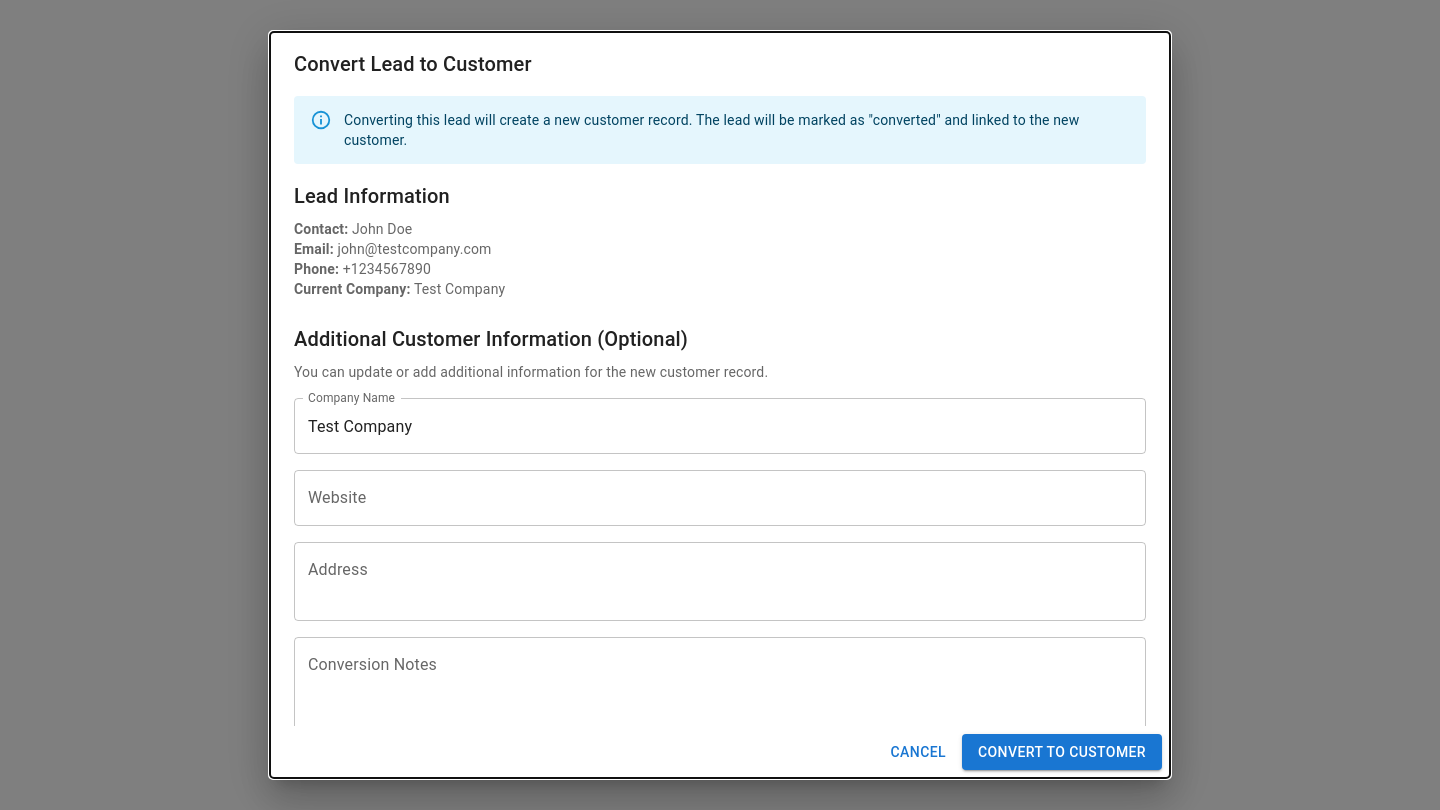
Test case: ConvertLeadDialog website › rejects javascript:alert(1)
Type "javascript:alert(1)" into the field labelled "Website" at (720, 498), box [294,470,1146,526]
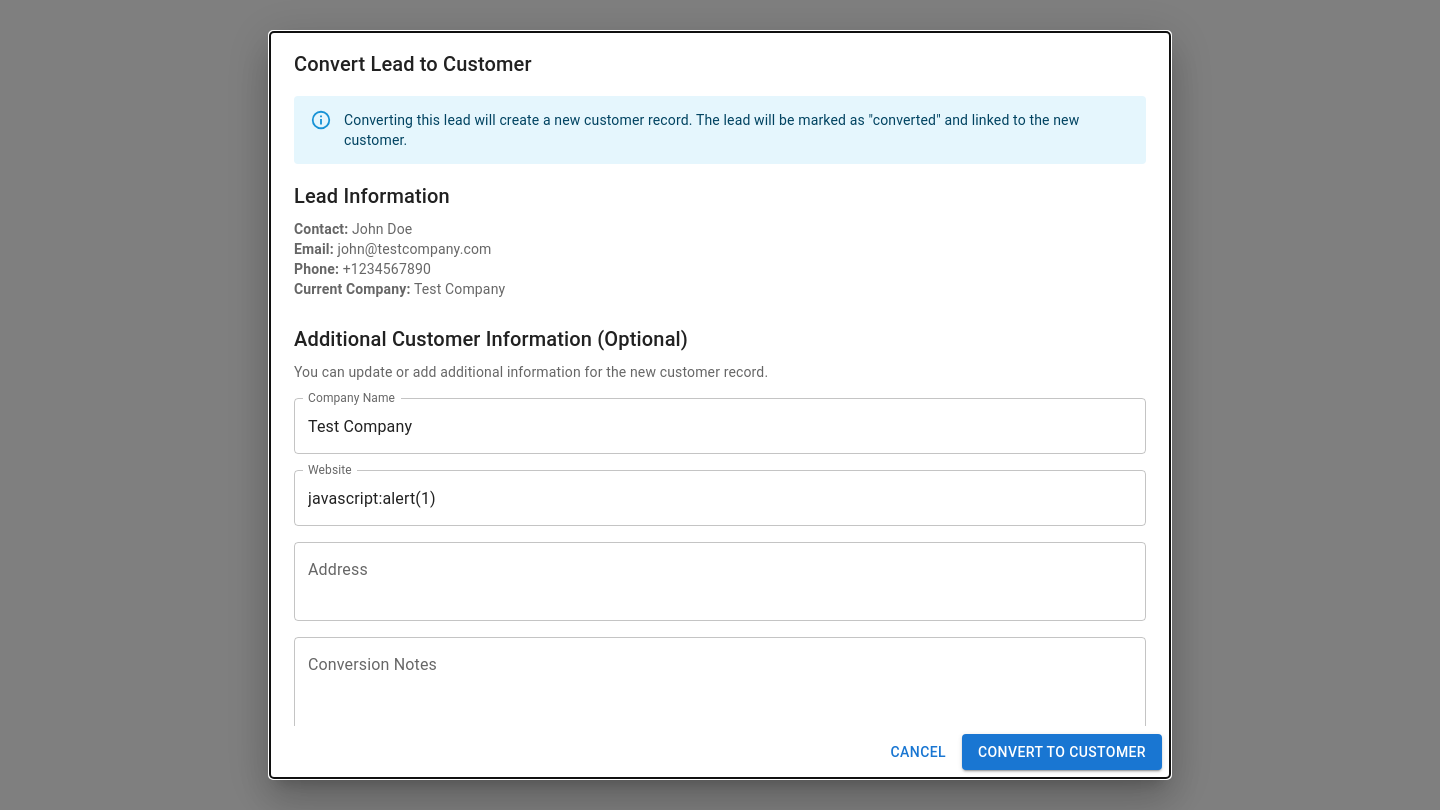
Click the button "Convert to Customer" at (1062, 752), box [962,734,1162,770]
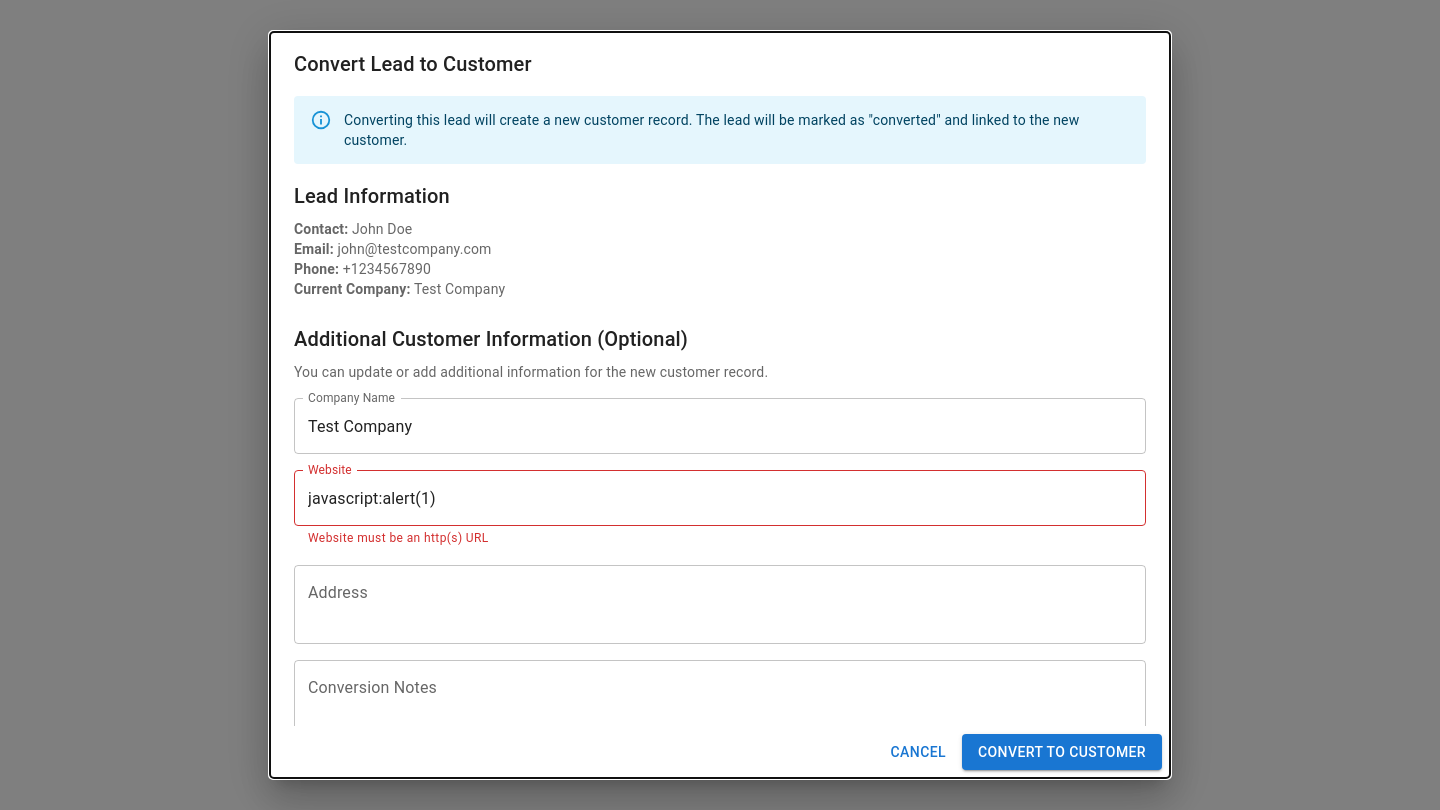
Result: the text "Website must be an http(s) URL" is shown at [308,531,489,545]
